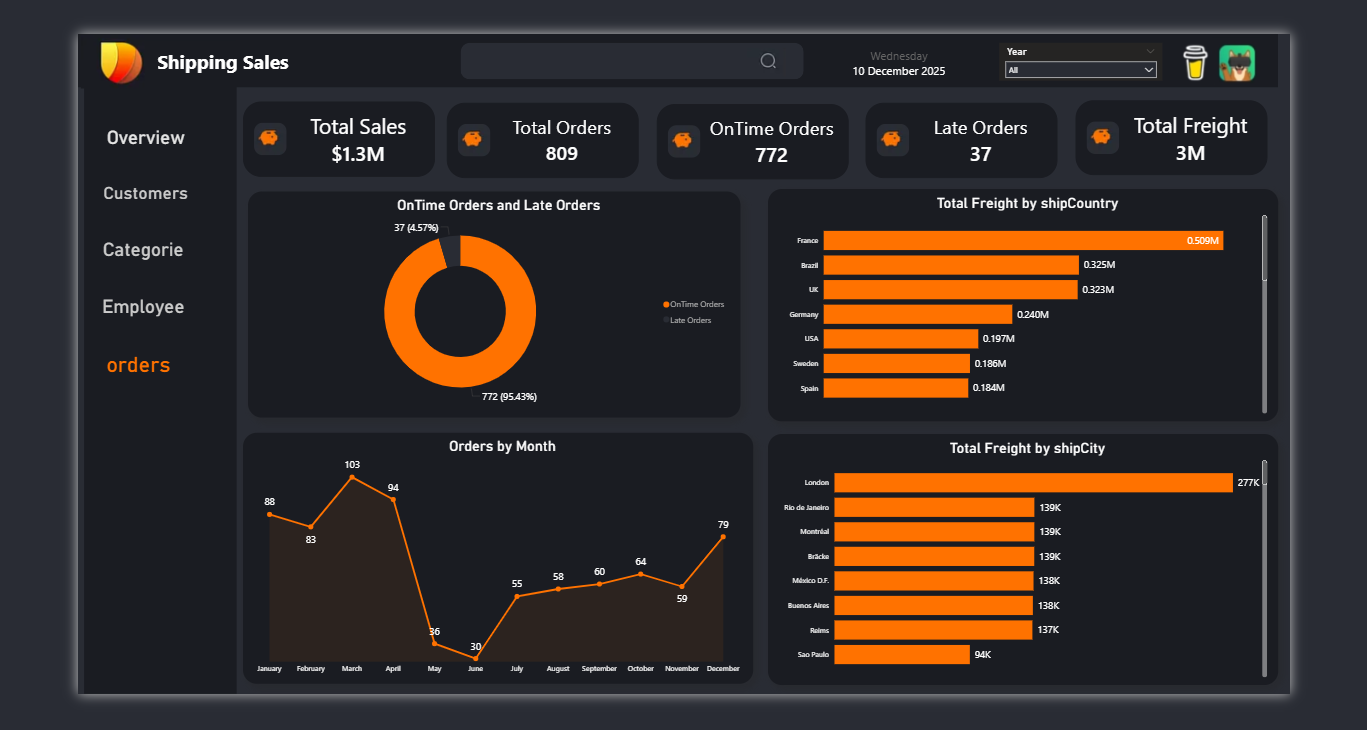

The dashboard page shown, as its layout file describes it:
{"tool":"powerbi","page":{"name":"Order","canvas":[2020,1100],"ordinal":4},"visuals":[{"type":"shape","box":[0,0,2000,88.9],"z":0},{"type":"shape","box":[11.1,11.1,253.7,1088.9],"z":1000},{"type":"actionButton","title":"Customers","box":[40.7,247.7,142.6,40.7],"z":2000},{"type":"actionButton","title":"Categories","box":[37,341.7,142.6,40.7],"z":3000},{"type":"actionButton","title":"orders","box":[29.6,529.6,142.6,40.7],"z":4000},{"type":"actionButton","title":"Employee","box":[37,435.6,142.6,40.7],"z":5000},{"type":"shape","box":[637,14.8,572.2,61.1],"z":6000},{"type":"textbox","box":[1259.3,18.5,220.4,61.1],"z":7000},{"type":"image","box":[1775.9,9.3,168.5,75.9],"z":8000},{"type":"image","box":[1861.1,5.6,138.9,75.9],"z":9000},{"type":"image","box":[0,1.9,116.7,88.9],"z":10000},{"type":"textbox","box":[127.8,18.5,309.3,66.7],"z":11000},{"type":"image","box":[1085.2,22.2,124.1,48.1],"z":12000},{"type":"actionButton","title":"Overview","box":[40.7,153.7,142.6,40.7],"z":13000},{"type":"slicer","fields":{"Values":["order_Dim.orderDate.Variation.Date Hierarchy.Year"]},"box":[1535.2,14.8,272.2,63],"z":14000},{"type":"cardVisual","fields":{"Data":["MeasureDAX.Total Sales"]},"box":[275.9,111.9,320.4,125.9],"z":15000},{"type":"cardVisual","fields":{"Data":["MeasureDAX.Total Orders"]},"box":[614.5,115.3,320,125.9],"z":16000},{"type":"cardVisual","fields":{"Data":["MeasureDAX.Late Orders"]},"box":[1313.2,113.6,320.4,125.9],"z":17000},{"type":"cardVisual","fields":{"Data":["MeasureDAX.OnTime Orders"]},"box":[963.9,117,320,125.9],"z":18000},{"type":"cardVisual","fields":{"Data":["MeasureDAX.Total Freight"]},"box":[1663,111.1,320.4,125],"z":19000},{"type":"barChart","fields":{"Category":["order_Dim.shipCountry"],"Y":["MeasureDAX.Total Freight"]},"box":[1150,258.3,850,387.5],"z":23000},{"type":"donutChart","fields":{"Y":["MeasureDAX.OnTime Orders","MeasureDAX.Late Orders"]},"box":[283.3,262.5,820.8,377.1],"z":23001},{"type":"lineChart","title":"Orders by Month","fields":{"Category":["order_Dim.orderDate.Variation.Date Hierarchy.Month"],"Y":["CountNonNull(order_Dim.orderID)"]},"box":[275,664.6,850,418.8],"z":23002},{"type":"barChart","fields":{"Y":["MeasureDAX.Total Freight"],"Category":["order_Dim.shipCity"]},"box":[1150,666.7,850,418.8],"z":23003}]}

Visuals, with their boxes in screenshot pixels (x1, y1, x2, y2), scaled from the page's 2020x1100 canvas onto the 1367x730 screenshot:
shape: select_region(0, 0, 1353, 59)
shape: select_region(8, 7, 179, 729)
"Customers" actionButton: select_region(28, 164, 124, 191)
"Categories" actionButton: select_region(25, 227, 122, 254)
"orders" actionButton: select_region(20, 351, 117, 378)
"Employee" actionButton: select_region(25, 289, 122, 316)
shape: select_region(431, 10, 818, 50)
textbox: select_region(852, 12, 1001, 53)
image: select_region(1202, 6, 1316, 57)
image: select_region(1259, 4, 1353, 54)
image: select_region(0, 1, 79, 60)
textbox: select_region(86, 12, 296, 57)
image: select_region(734, 15, 818, 47)
"Overview" actionButton: select_region(28, 102, 124, 129)
slicer - order_Dim.orderDate.Variation.Date Hierarchy.Year: select_region(1039, 10, 1223, 52)
cardVisual - MeasureDAX.Total Sales: select_region(187, 74, 404, 158)
cardVisual - MeasureDAX.Total Orders: select_region(416, 77, 632, 160)
cardVisual - MeasureDAX.Late Orders: select_region(889, 75, 1106, 159)
cardVisual - MeasureDAX.OnTime Orders: select_region(652, 78, 869, 161)
cardVisual - MeasureDAX.Total Freight: select_region(1125, 74, 1342, 157)
barChart - order_Dim.shipCountry x MeasureDAX.Total Freight: select_region(778, 171, 1353, 429)
donutChart - MeasureDAX.OnTime Orders x MeasureDAX.Late Orders: select_region(192, 174, 747, 424)
"Orders by Month" lineChart: select_region(186, 441, 761, 719)
barChart - MeasureDAX.Total Freight x order_Dim.shipCity: select_region(778, 442, 1353, 720)
